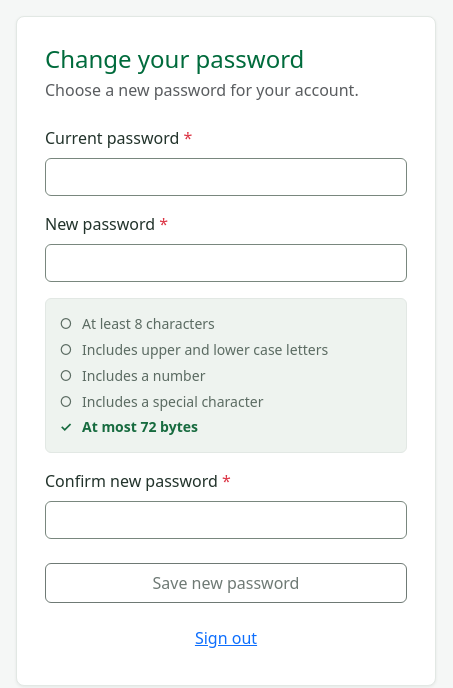
C-02 Change Password gate › keeps Save disabled without the current password once past a first login
The image size is (453, 688).
Type "Password1!" into the password field labelled "New password *" at (226, 263), box x1=45 y1=244 x2=407 y2=282
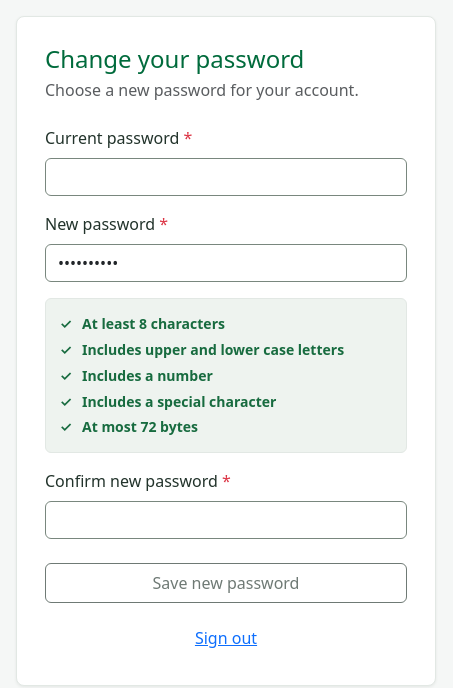
Type "Password1!" into the password field labelled "Confirm new password *" at (226, 520), box x1=45 y1=501 x2=407 y2=539
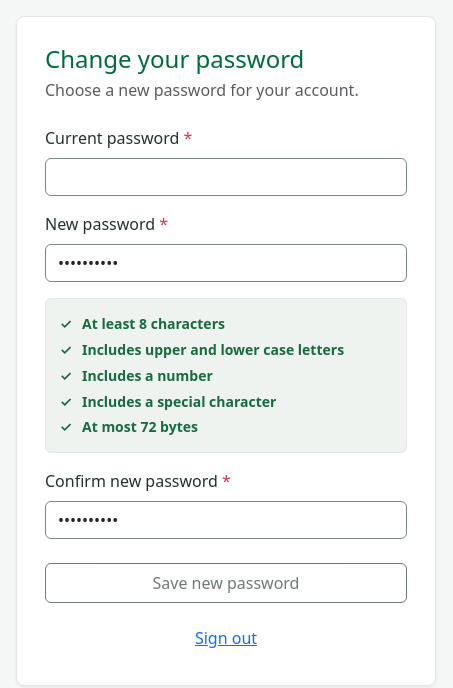
Expected: the button "Save new password" is disabled, x1=45 y1=563 x2=407 y2=603
Type "ChangeMe!2026" into the password field labelled "Current password *" at (226, 177), box x1=45 y1=158 x2=407 y2=196
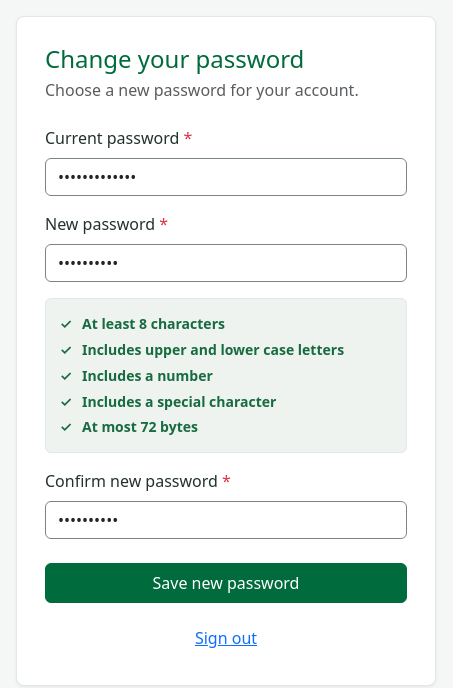
Now the button "Save new password" is enabled, box x1=45 y1=563 x2=407 y2=603
